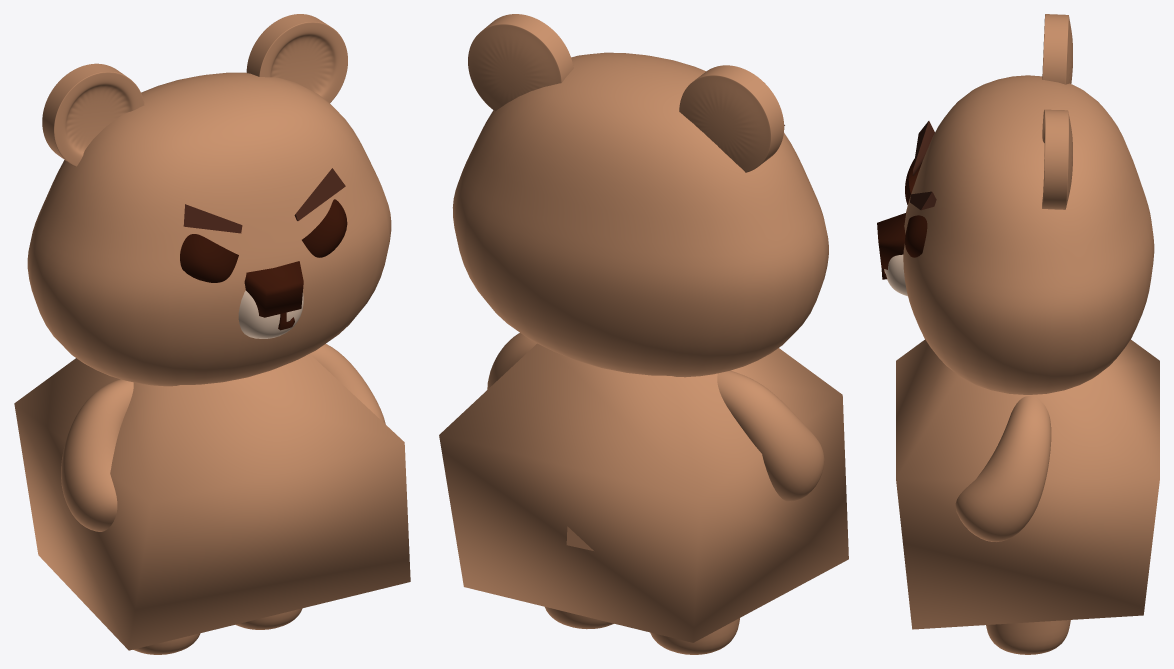
File: Oso.glb
3 views of the same model, side by side, from view 1: azimuth 30°, elevation 25°; view 2: azimuth 150°, elevation 25°; view 3: azimuth 270°, elevation 25° (orthographic). The views are drawn at different scales.
Parts seen in each view (by area): view 1: Cube.001, Cube, Cylinder, Cube.003, Cube.008, Cube.005, Cube.006, Cube.002, Cube.012, Cube.009; view 2: Cube, Cube.001, Cylinder, Cube.003, Cube.002; view 3: Cube, Cube.001, Cube.003, Cylinder, Cube.002, Cube.005, Cube.008, Cube.006, Cube.012.
Part boxes in pixels (box(x1,y1,x2,y2)): Cube.001: box(14, 353, 410, 650); Cube: box(27, 72, 391, 386); Cylinder: box(42, 14, 347, 166); Cube.003: box(61, 344, 385, 531); Cube.008: box(180, 199, 347, 282); Cube.005: box(244, 261, 303, 317); Cube.006: box(238, 290, 303, 338); Cube.002: box(133, 608, 302, 654); Cube.012: box(183, 204, 242, 233); Cube.009: box(294, 168, 345, 220); Cube: box(452, 52, 828, 377); Cube.001: box(439, 343, 848, 642); Cylinder: box(468, 14, 784, 172); Cube.003: box(487, 333, 824, 501); Cube.002: box(545, 607, 739, 654); Cube: box(903, 75, 1154, 394); Cube.001: box(896, 339, 1159, 629); Cube.003: box(955, 396, 1051, 541); Cylinder: box(1042, 14, 1072, 209); Cube.002: box(986, 620, 1070, 654); Cube.005: box(877, 213, 905, 269); Cube.008: box(905, 158, 927, 257); Cube.006: box(884, 254, 907, 296); Cube.012: box(912, 121, 934, 175).
Size of the model in its own units: 1.84 by 3.05 by 1.4.
